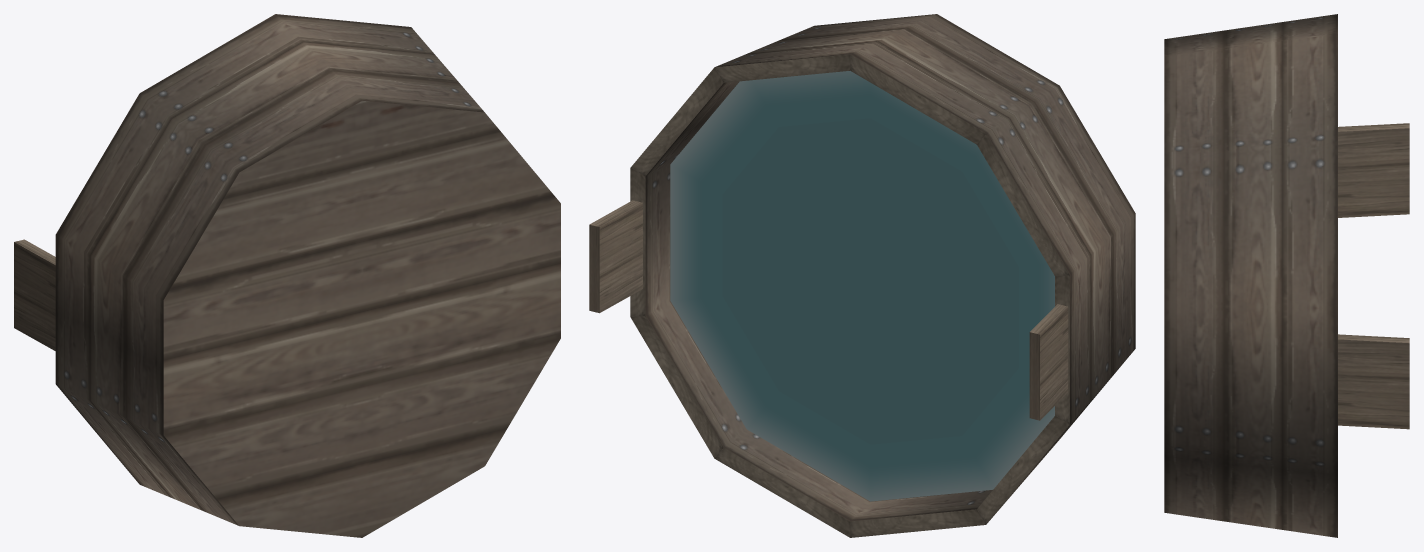
The model's file is Bathtub_Full.fbx.
3 views of the same model, side by side, from view 1: azimuth 30°, elevation 25°; view 2: azimuth 150°, elevation 25°; view 3: azimuth 270°, elevation 25° (orthographic).
Parts seen in each view (by area): view 1: Bathtub_Full; view 2: Bathtub_Full; view 3: Bathtub_Full.
Boxes of the visible parts, <box> form: Bathtub_Full: <box>14,14,560,537</box>; Bathtub_Full: <box>589,14,1135,537</box>; Bathtub_Full: <box>1164,14,1409,537</box>.
Size of the model in its own units: 2.82 by 2.89 by 1.33.
